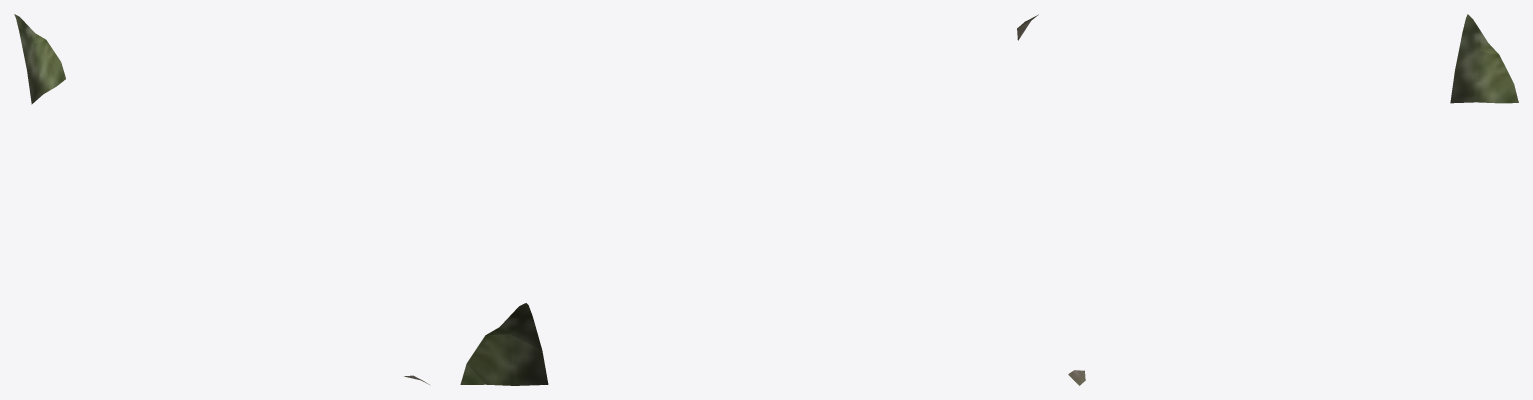
The picture shows the model from 3 angles, left to right: view 1: azimuth 30°, elevation 25°; view 2: azimuth 150°, elevation 25°; view 3: azimuth 330°, elevation 25°; orthographic projection. The views are drawn at different scales.
Bounding box in the file's own units: 0.2184 × 0.3117 × 2.95.
Materials: 1 (1 with a texture image).
